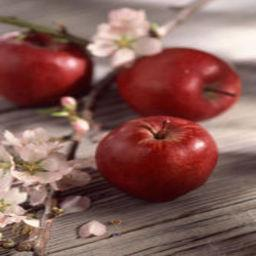apple: (95, 116, 221, 202), (114, 47, 241, 123), (1, 29, 92, 111)
